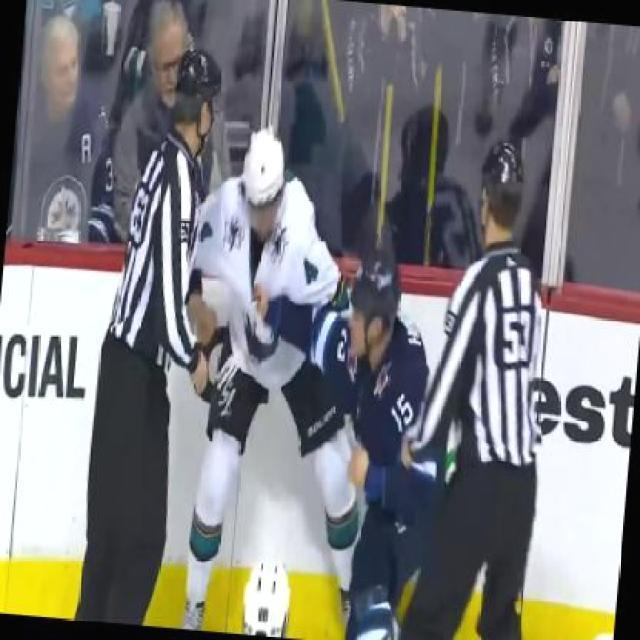fight: (168, 120, 457, 638)
non-fight: (76, 40, 219, 628), (409, 123, 571, 639)
